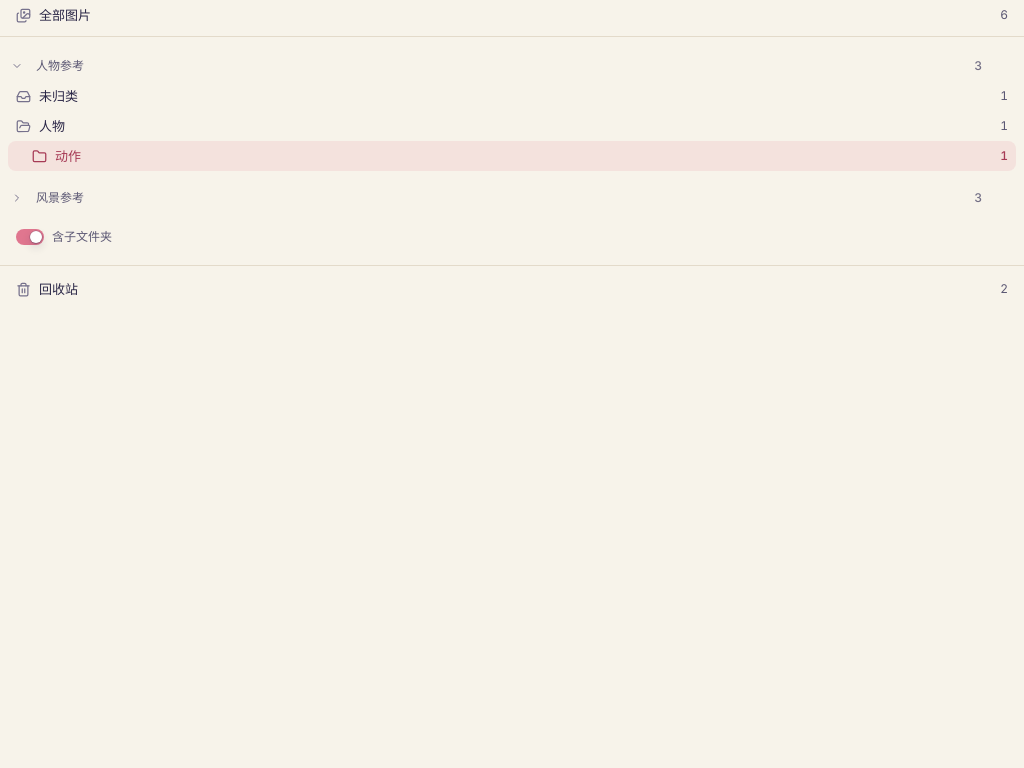
Test: 删除文件夹先确认，写明图片不删、子文件夹一并删除；正在看的文件夹被删后回到该图库的全部
This screenshot has width=1024, height=768.
Right-click the button with aria-label "人物（1 张）" at (24, 126), box 8,111 -> 1016,141
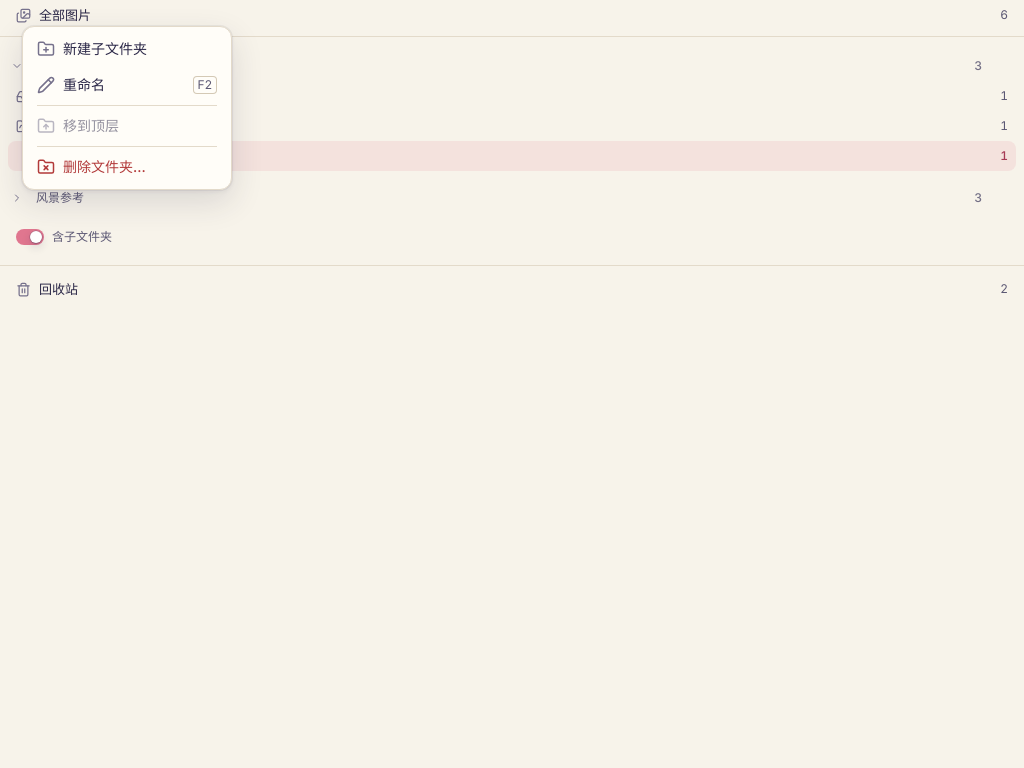
Click the menu item "删除文件夹…" at (91, 167), box 37,158 -> 146,176
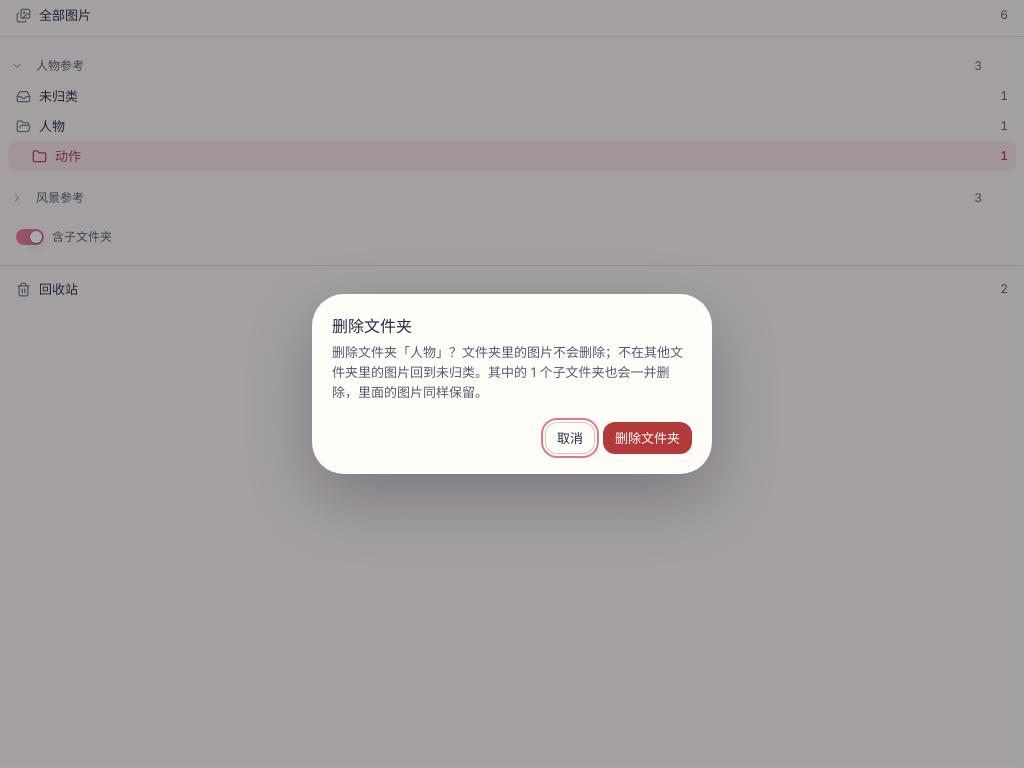
Result: the dialog "删除文件夹" shows "删除文件夹「人物」？" at 332,344 -> 683,380
Result: the dialog "删除文件夹" shows "图片不会删除" at 332,344 -> 683,380
Result: the dialog "删除文件夹" shows "回到未归类" at 332,344 -> 683,380
Click the button "取消" at (570, 438), box 545,422 -> 595,454
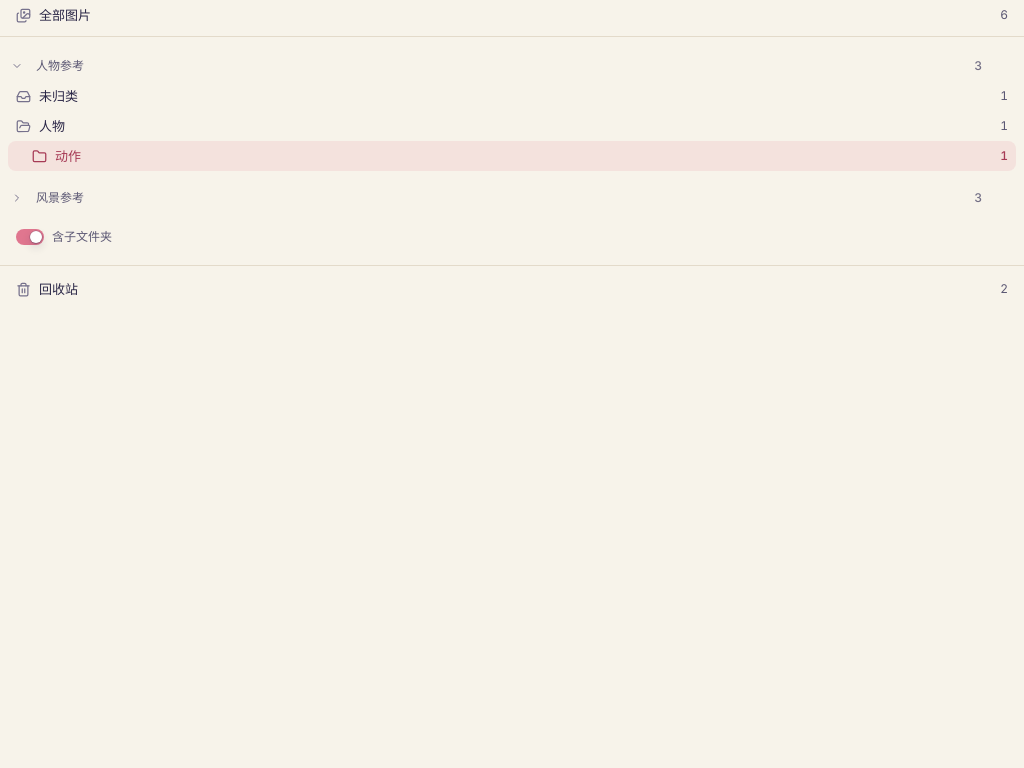
Result: the dialog is gone
Right-click the button with aria-label "人物（1 张）" at (24, 126), box 8,111 -> 1016,141
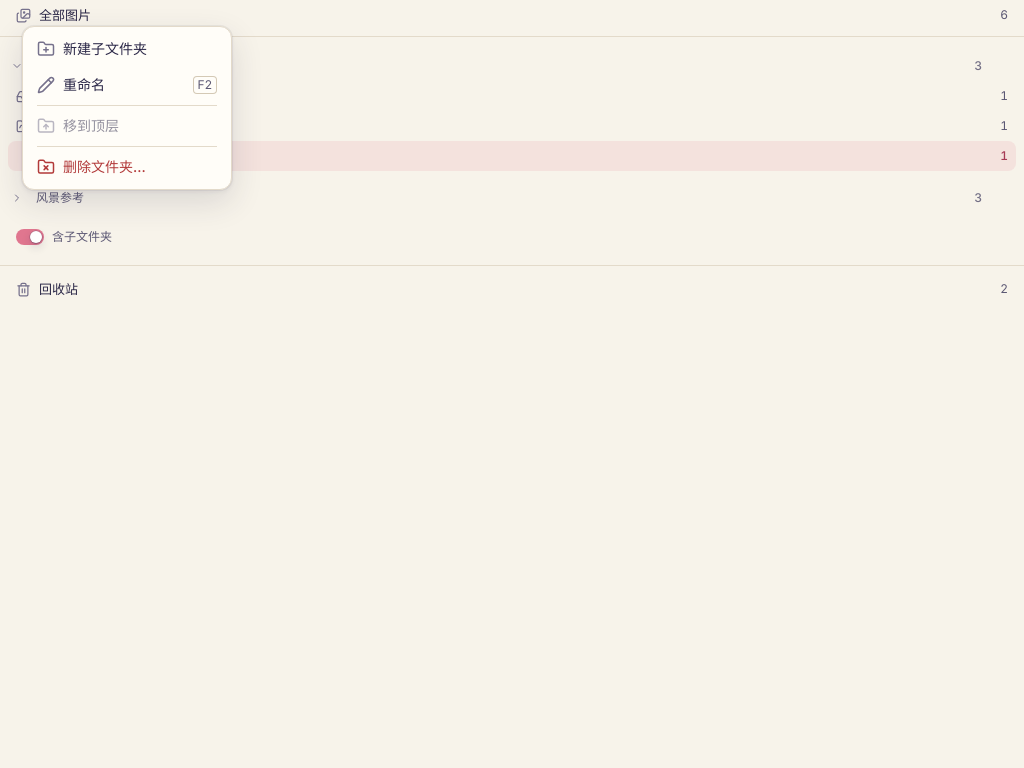
Click the menu item "删除文件夹…" at (91, 167), box 37,158 -> 146,176
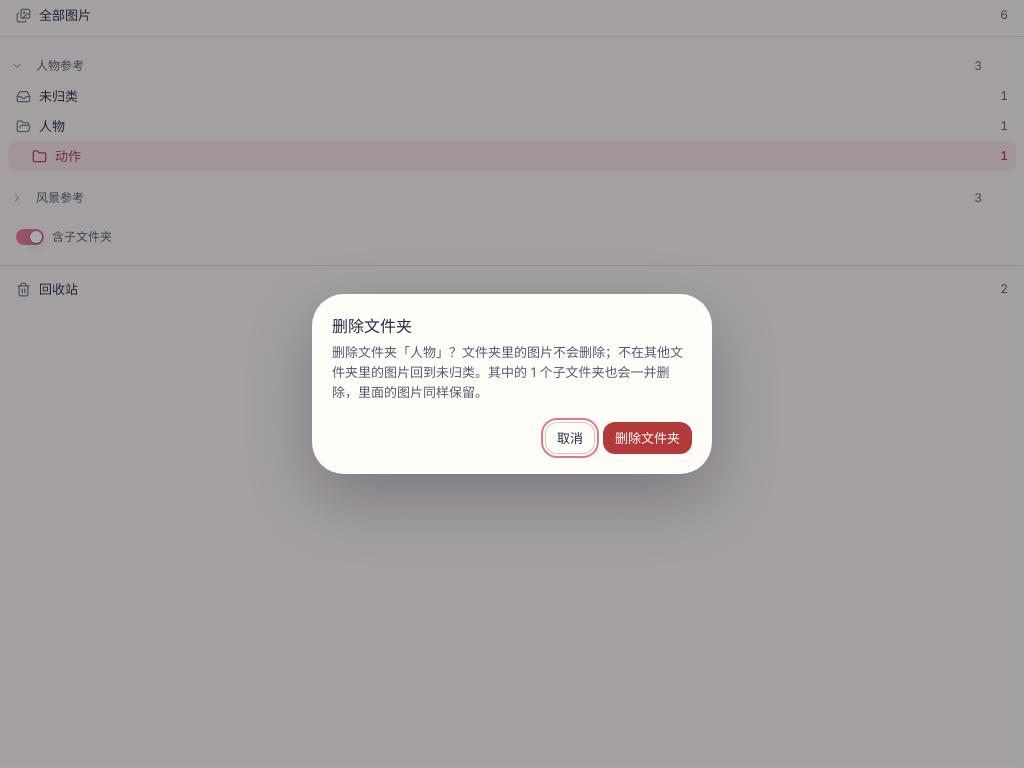
Click the button "删除文件夹" at (648, 438), box 603,422 -> 692,454
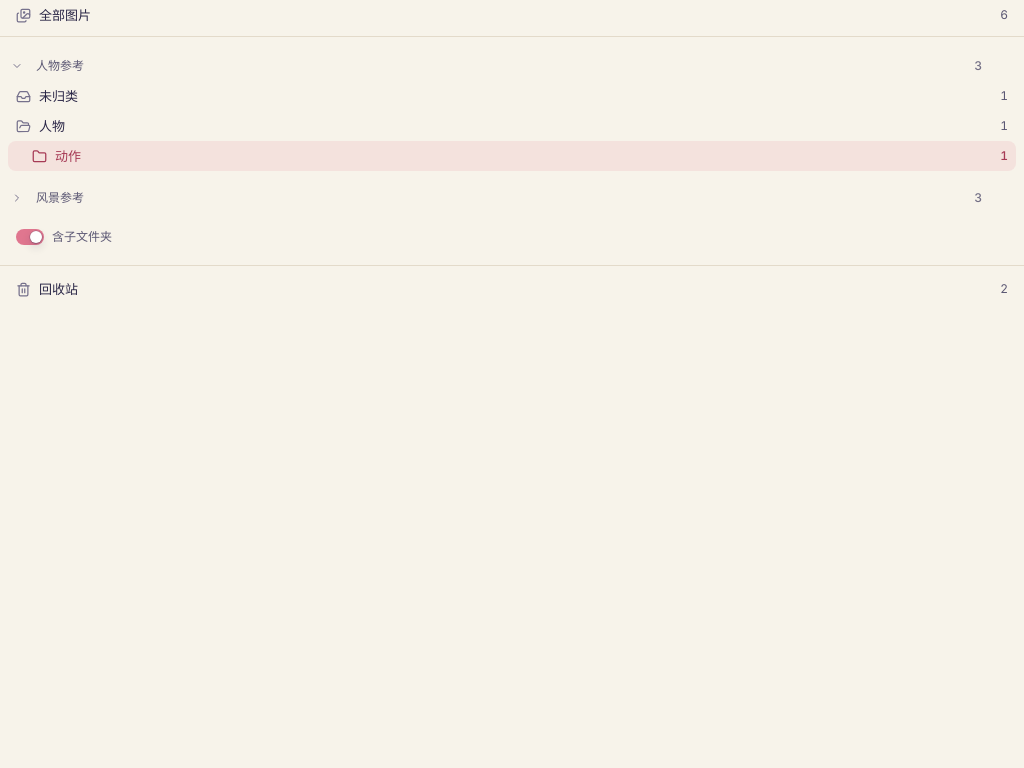
Result: the dialog is gone
